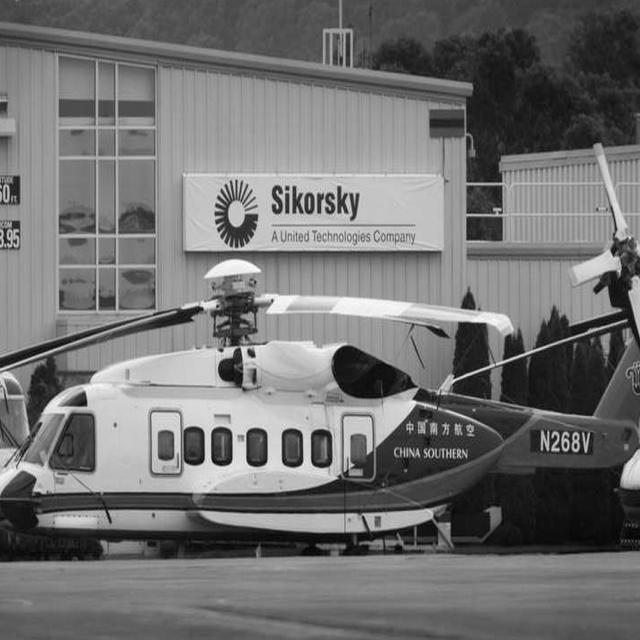helicopter: (1, 138, 640, 558)
